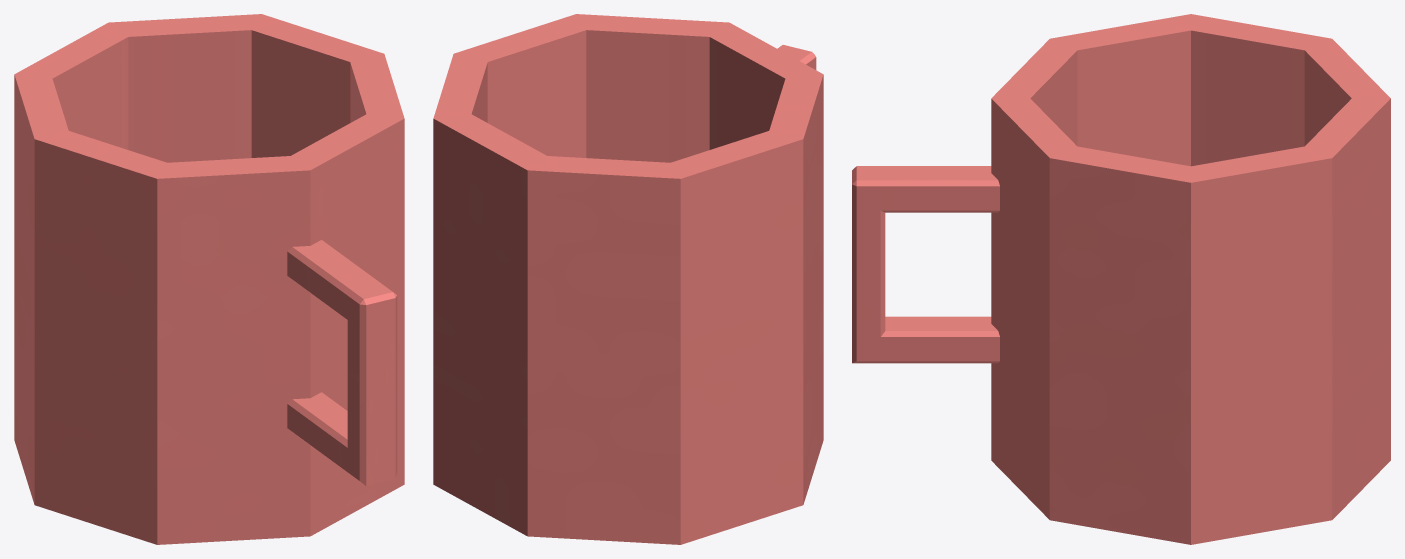
File: Mug_01.fbx
3 renders of one model, left to right at view 1: azimuth 30°, elevation 25°; view 2: azimuth 150°, elevation 25°; view 3: azimuth 270°, elevation 25°, orthographic.
Parts seen in each view (by area): view 1: Mug_01; view 2: Mug_01; view 3: Mug_01.
Boxes of the visible parts, <box> form: Mug_01: <box>14,14,404,544</box>; Mug_01: <box>433,14,823,544</box>; Mug_01: <box>852,14,1390,544</box>.
Size of the model in its own units: 0.1401 by 0.1401 by 0.1889.
